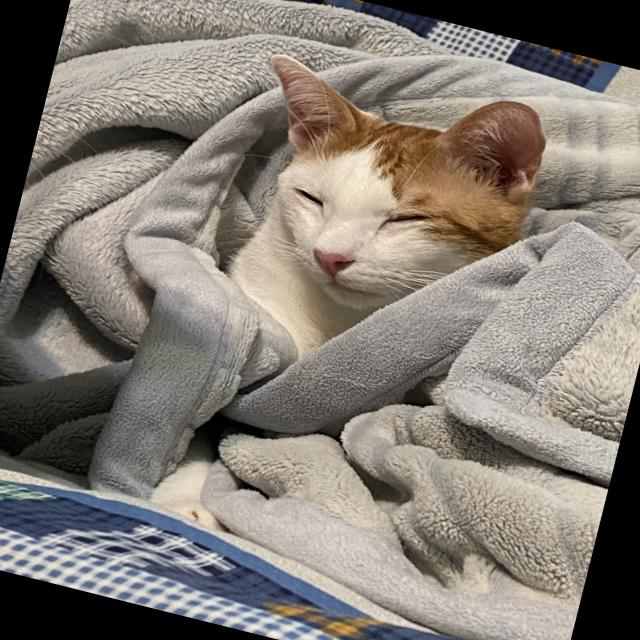cat1: (170, 38, 577, 414)
